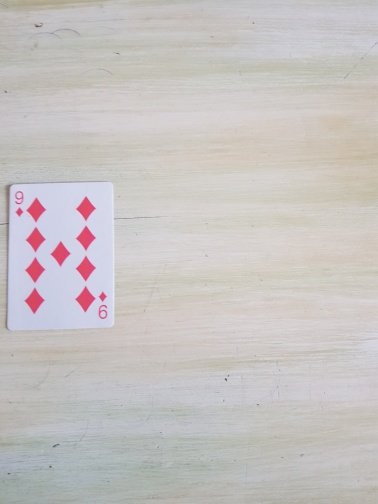nine: (5, 180, 117, 333)
